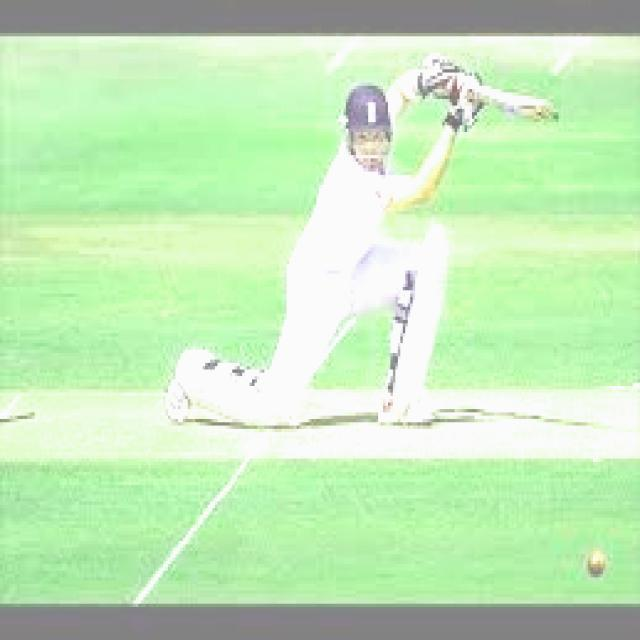bat: (464, 73, 572, 127)
toe: (532, 99, 571, 123)
